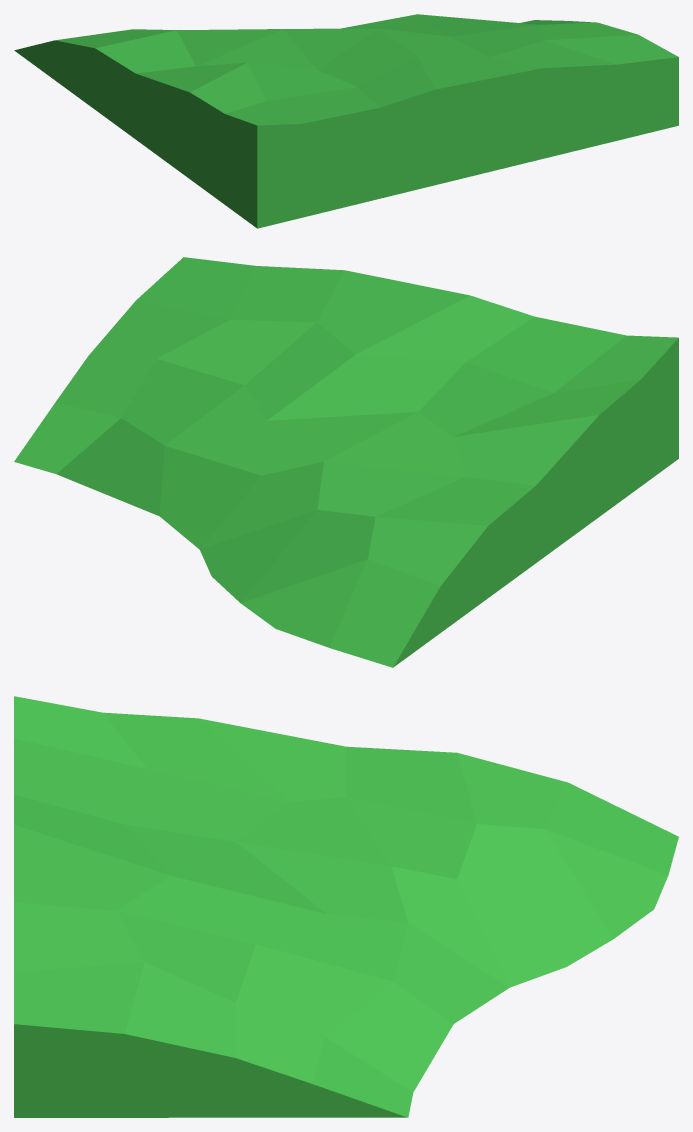
The model's file is RiverSide.fbx.
3 renders of one model, top to bottom at view 1: azimuth 30°, elevation 25°; view 2: azimuth 150°, elevation 25°; view 3: azimuth 270°, elevation 25°, orthographic. The views are drawn at different scales.
Parts seen in each view (by area): view 1: RiverSide; view 2: RiverSide; view 3: RiverSide.
Part boxes in pixels (x1=…): RiverSide: x1=14, y1=14, x2=678, y2=228; RiverSide: x1=14, y1=257, x2=678, y2=667; RiverSide: x1=14, y1=696, x2=678, y2=1117.
Bounding box in the file's own units: 1000 × 234 × 1000.
